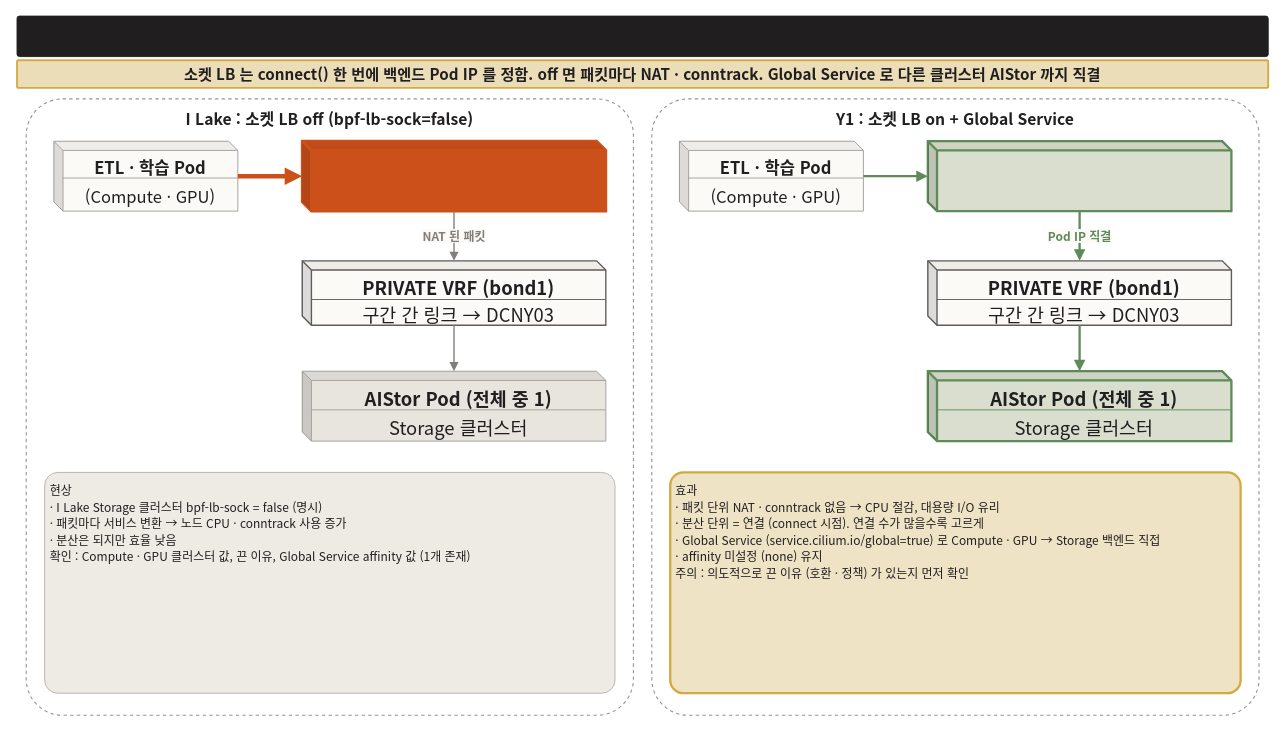
The diagram is 1284 pixels wide and 732 high, and some of its shapes have lost their labels. The shapes that lost their labels are listed below. From the top down, each one's centre as x and y in pixels, then its label:
At (x=642, y=36): "그림 4-4. 내부 client (Compute · GPU Pod) → AIStor : 소켓 LB off → on".
At (x=453, y=175): "패킷마다 tc BPF ClusterIP → Pod DNAT · 응답 역변환".
At (x=1079, y=176): "connect() 훅 (cgroup BPF) 목적지 = AIStor Pod IP 로 1회 변경".
